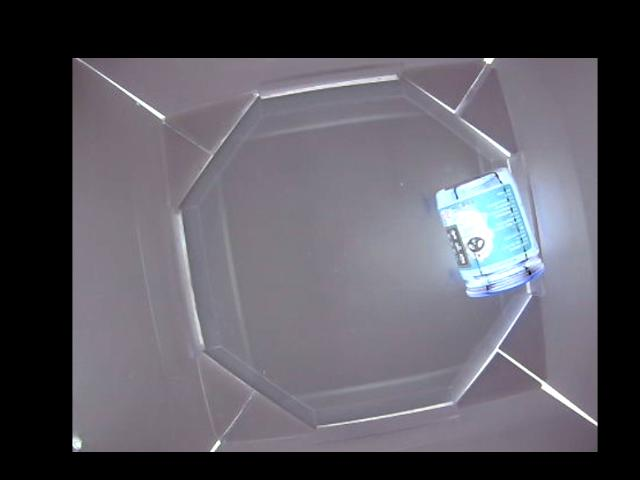Bottle: (435, 168, 548, 295)
